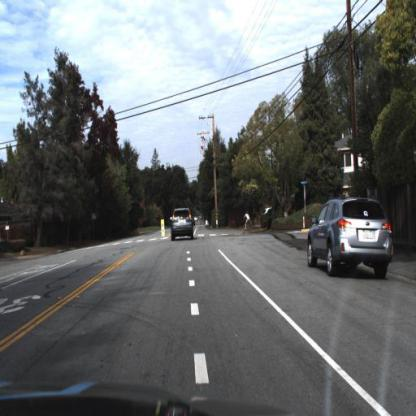biker: (238, 203, 259, 240)
car: (303, 190, 397, 293), (164, 199, 195, 241)
